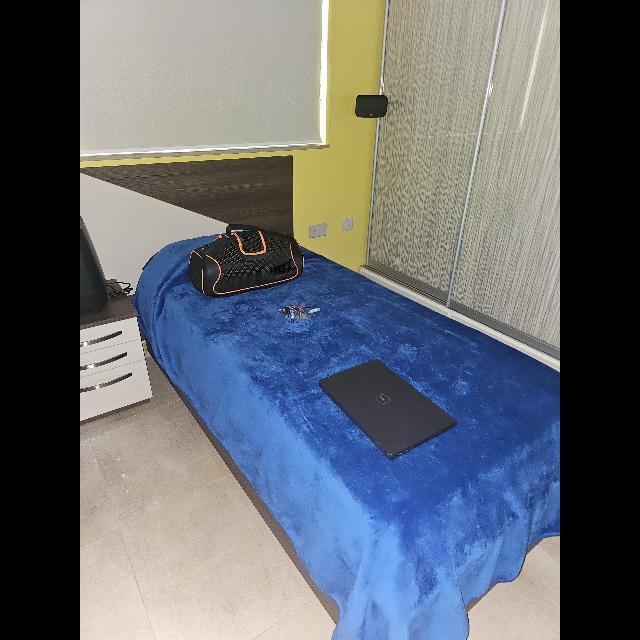Keys: (280, 303, 318, 323)
